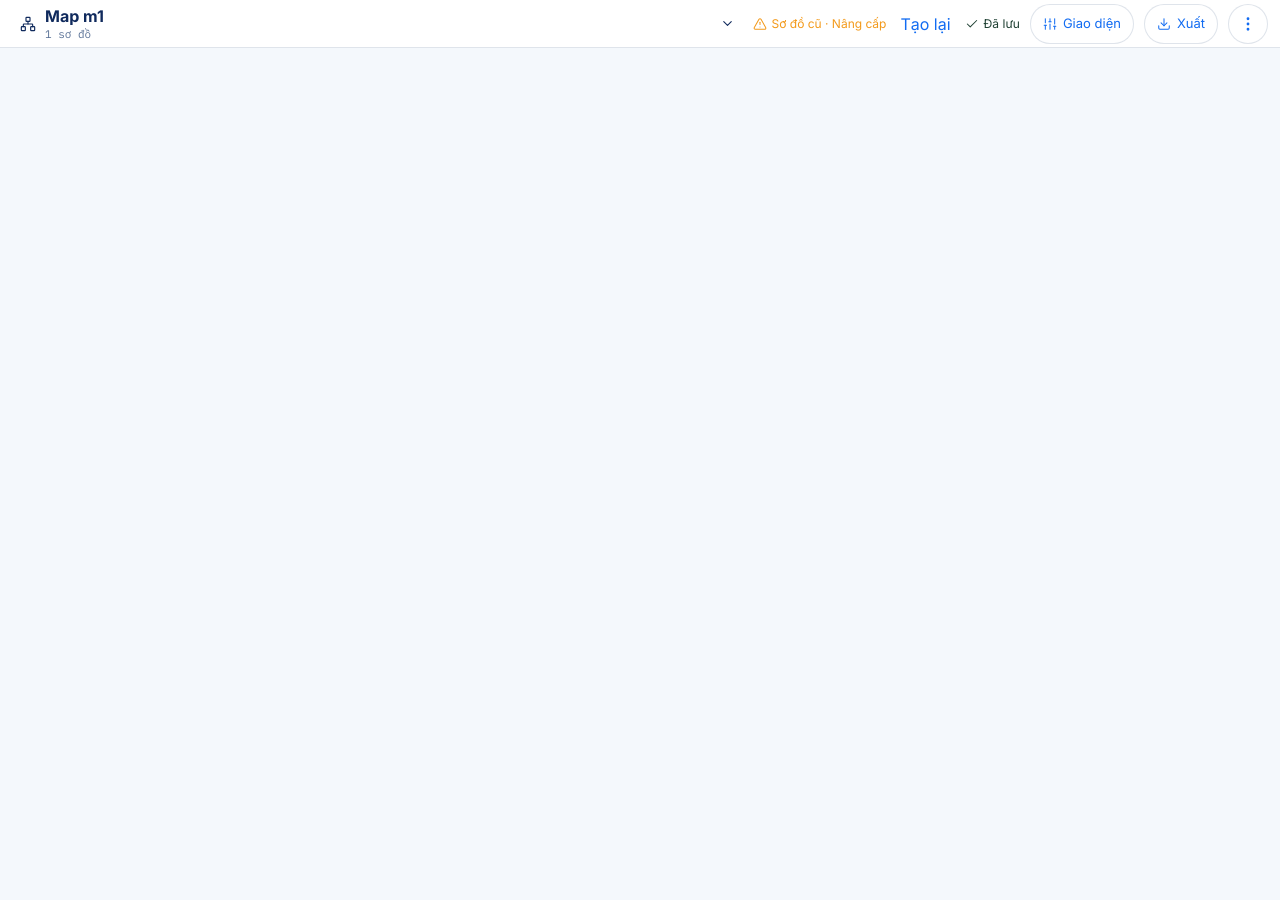
Test: MindElixirView Export Studio › closing the dialog removes it
The width and height of the screenshot is (1280, 900).
What coordinates should you click on to do the following:
click the button with aria-label "Xuất sơ đồ"
I would click on:
 (1181, 24)
Its box is left=1144, top=4, right=1218, bottom=44.
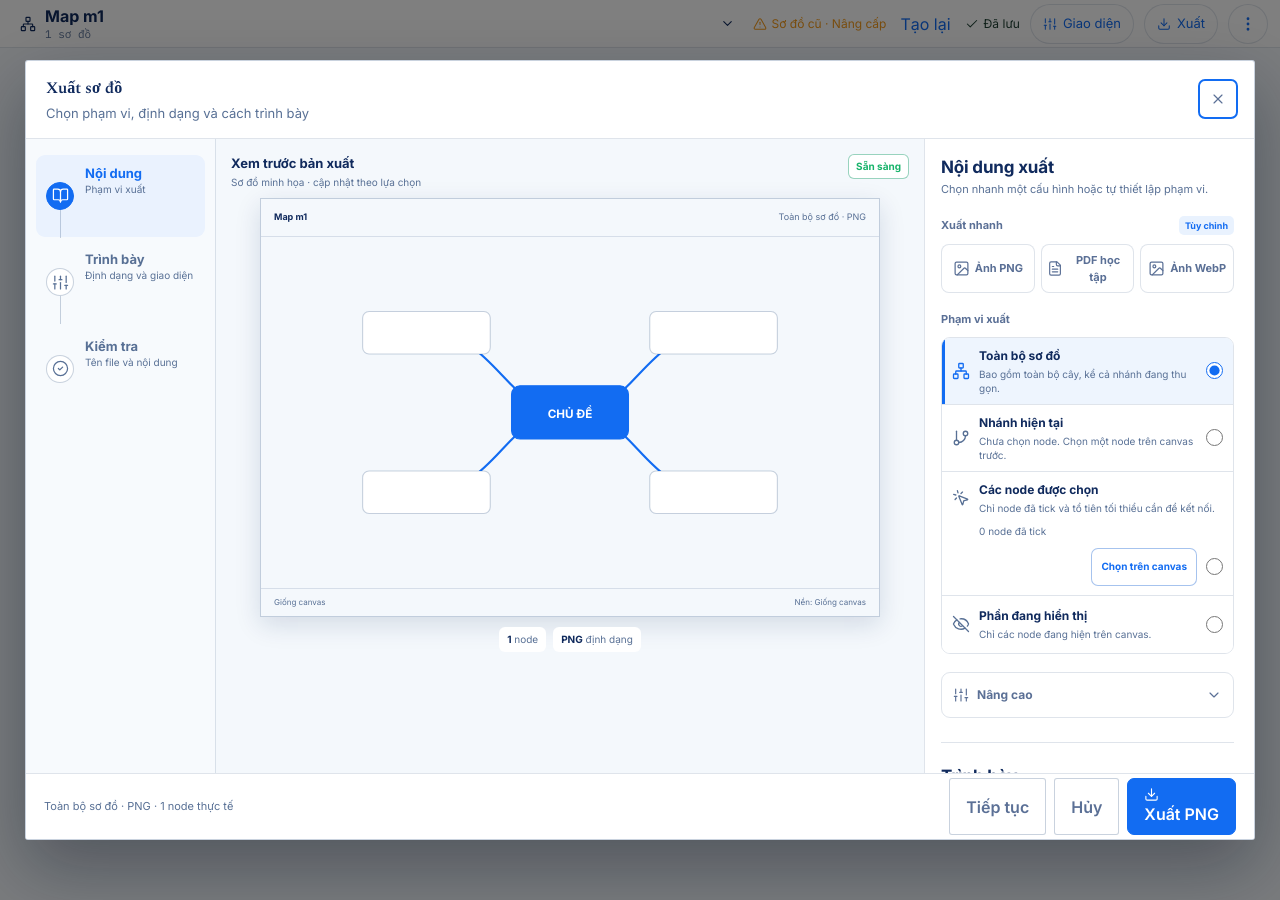
What coordinates should you click on to do the following:
click the button "Hủy"
I would click on:
 (1087, 806)
Its box is left=1054, top=778, right=1119, bottom=835.
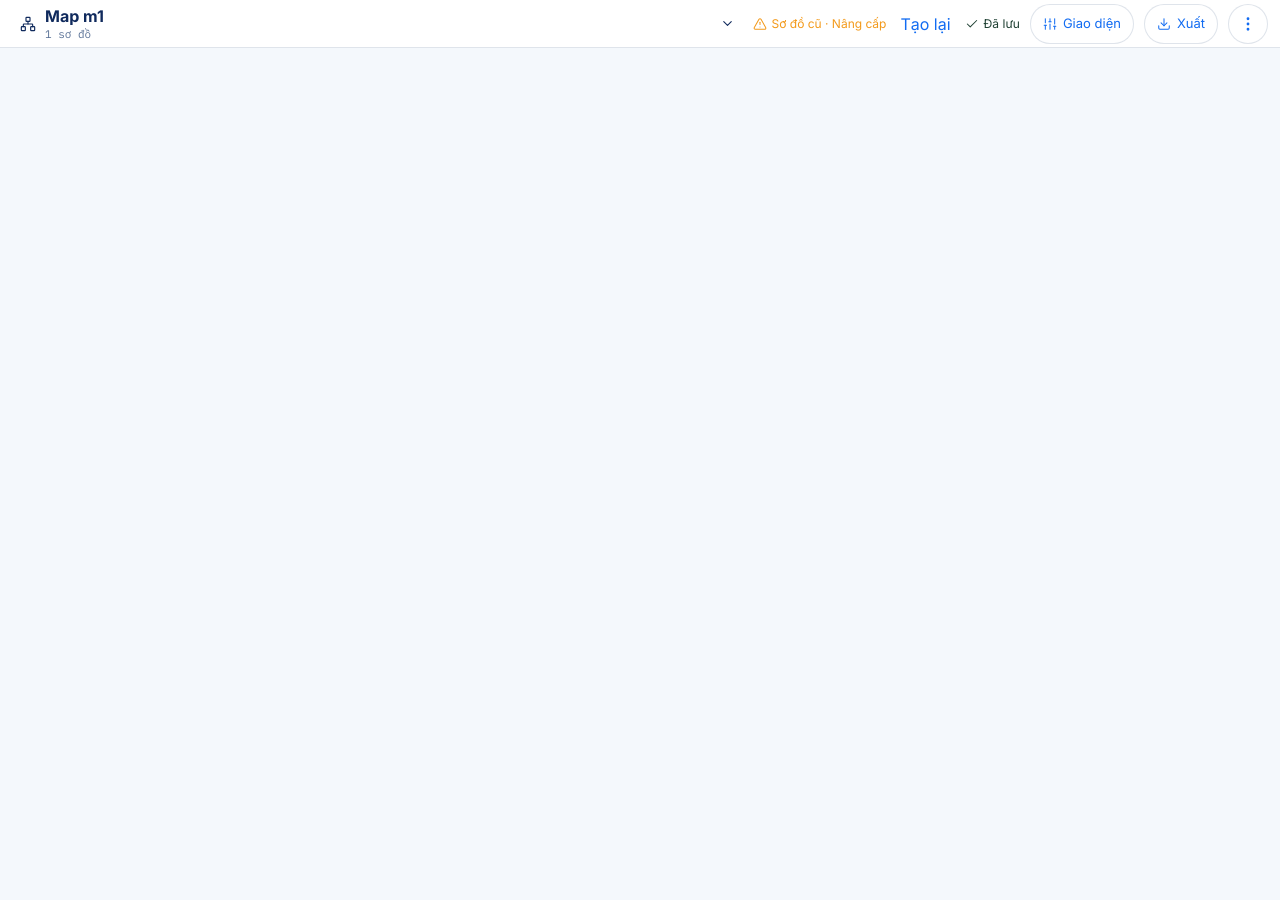
Check: the dialog is gone
